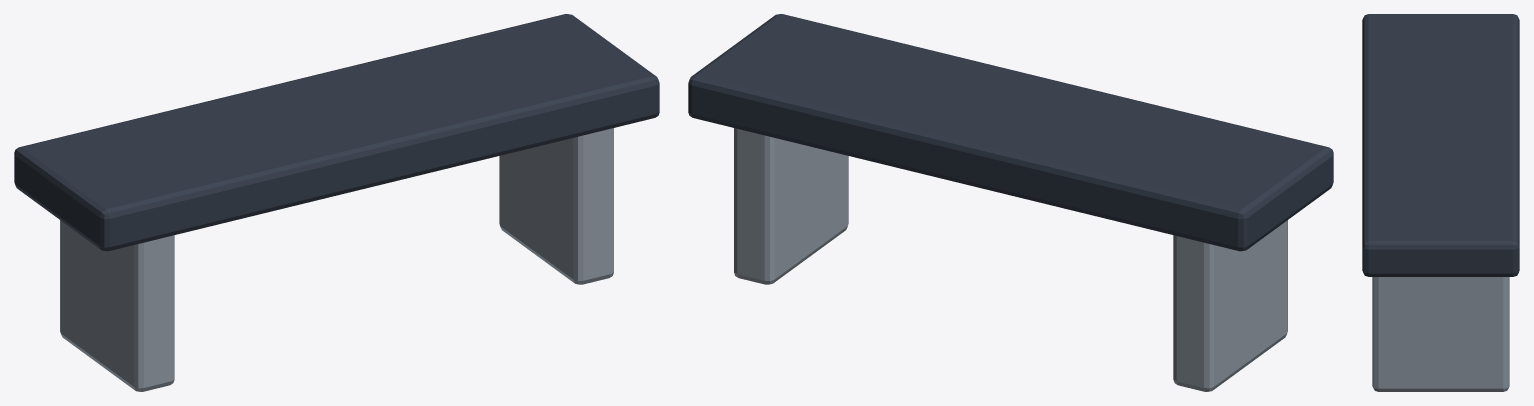
Rendered from Boxing_Bench.fbx.
3 views of the same model, side by side, from view 1: azimuth 30°, elevation 25°; view 2: azimuth 150°, elevation 25°; view 3: azimuth 270°, elevation 25° (orthographic). The views are drawn at different scales.
Parts seen in each view (by area): view 1: Bench; view 2: Bench; view 3: Bench.
Part boxes in pixels (box(x1,y1,x2,y2)): Bench: box(14, 14, 659, 391); Bench: box(688, 14, 1333, 391); Bench: box(1362, 14, 1519, 391).
Bounding box in the file's own units: 1.4 × 0.47 × 0.4.
